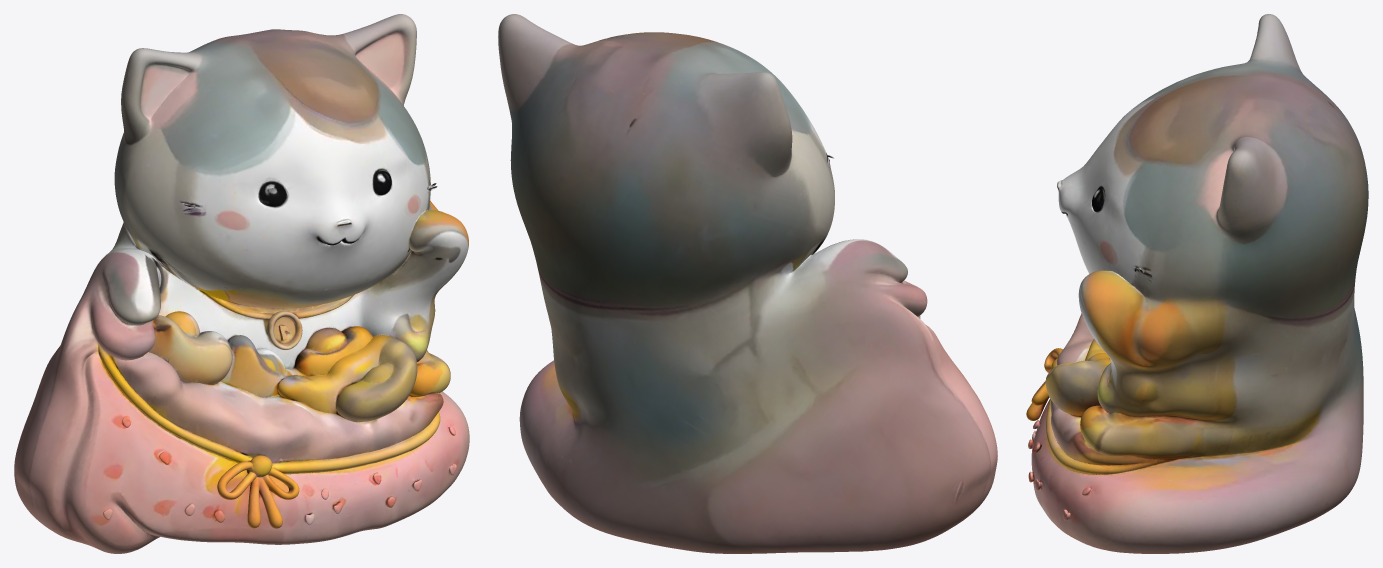
File: LUCKYCAT_BAG-v1-optimized.glb
3 views of the same model, side by side, from view 1: azimuth 30°, elevation 25°; view 2: azimuth 150°, elevation 25°; view 3: azimuth 270°, elevation 25° (orthographic). The views are drawn at different scales.
Size of the model in its own units: 1.79 by 1.75 by 1.26.
1 material, 1 textured.
